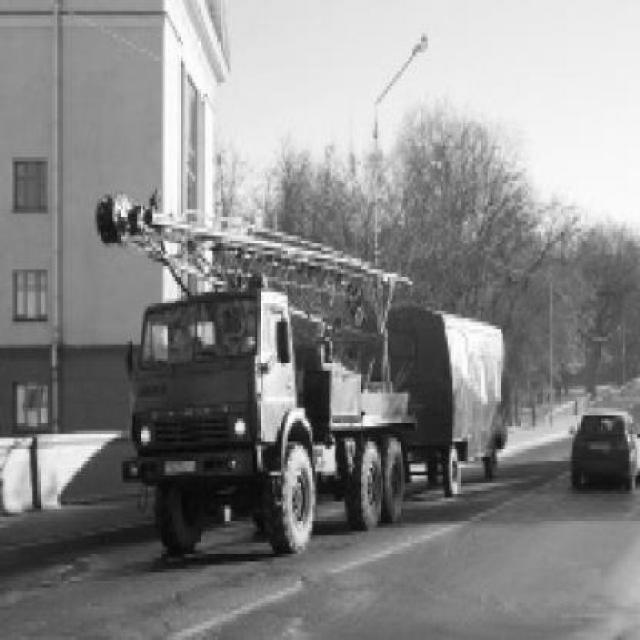Box Truck: (121, 293, 419, 555), (361, 306, 509, 499)
